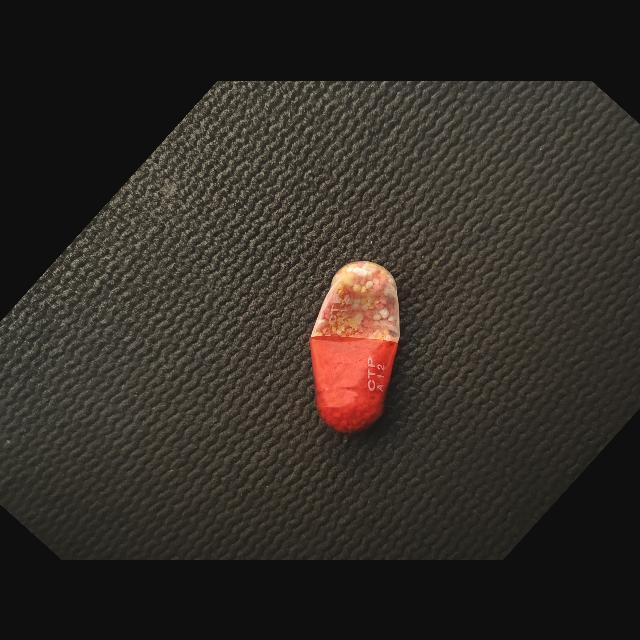Defective Capsule: (309, 260, 400, 433)
